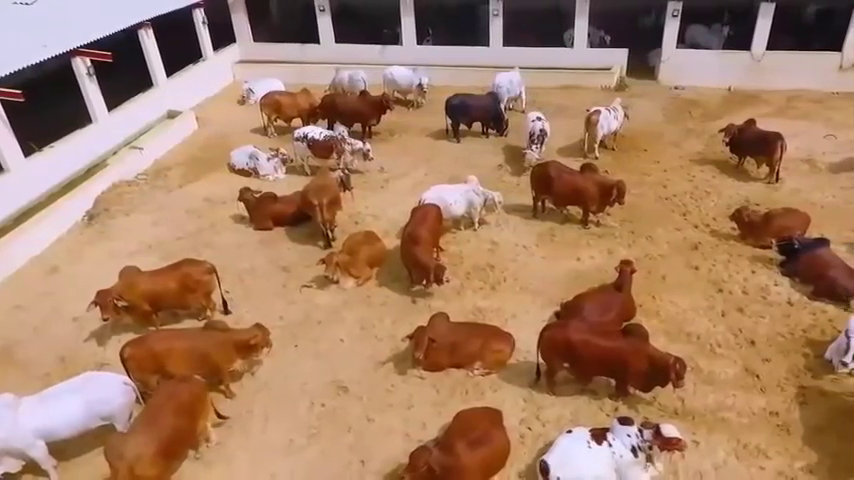bo: (2, 351, 141, 477), (102, 365, 229, 479), (527, 322, 695, 406), (120, 319, 278, 393), (535, 410, 693, 480), (401, 301, 527, 386), (87, 263, 242, 330), (407, 399, 513, 480), (531, 263, 657, 326), (705, 111, 791, 195), (779, 226, 854, 319), (413, 170, 511, 233), (314, 220, 389, 300), (393, 201, 454, 292), (293, 151, 349, 246), (290, 121, 378, 175), (732, 198, 809, 252), (574, 93, 628, 166), (231, 171, 295, 230), (321, 80, 387, 136), (223, 132, 290, 182), (257, 87, 321, 134), (511, 109, 555, 168), (552, 13, 617, 52), (437, 106, 510, 140), (672, 15, 737, 52), (376, 58, 424, 107), (483, 57, 526, 111), (322, 54, 363, 98), (235, 77, 285, 109)
